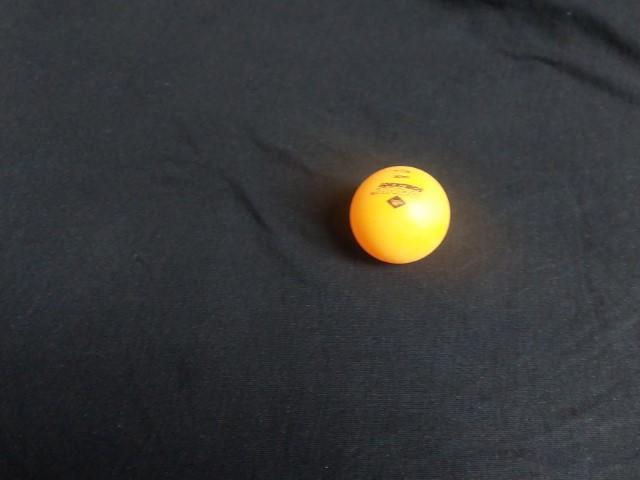oball: (341, 161, 457, 276)
